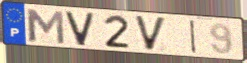2: (102, 14, 131, 50)
9: (208, 22, 235, 56)
I: (189, 19, 198, 55)
M: (24, 7, 67, 46)
V: (133, 14, 169, 53), (64, 11, 97, 48)
